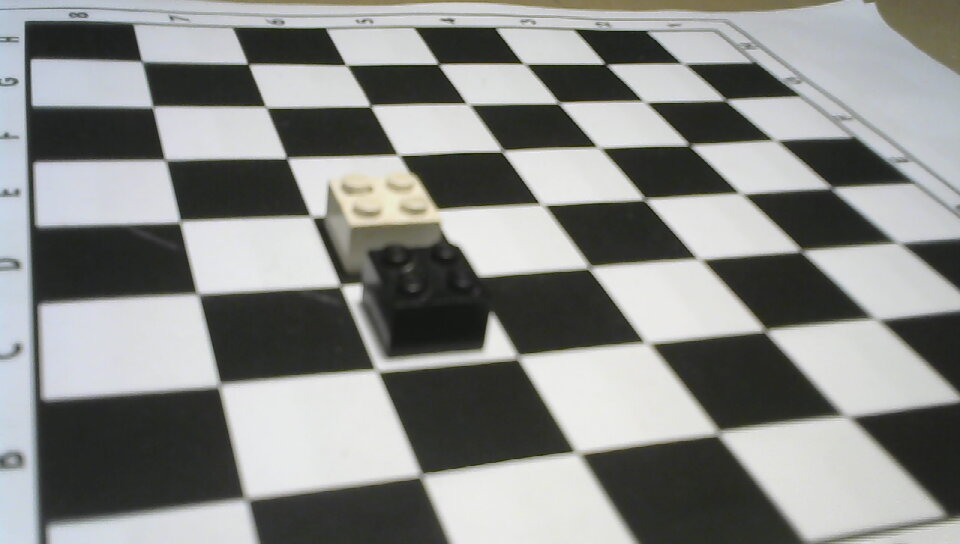wp: (315, 169, 446, 242)
